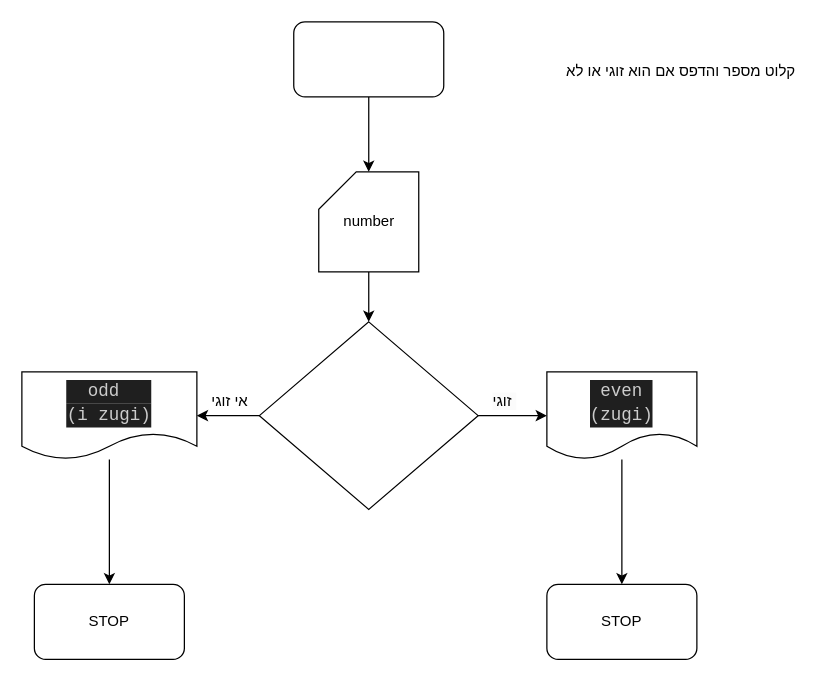
The diagram is 838 pixels wide and 681 high, and some of its shapes have lost their labels. Each missing label, with the centre of its shape:
( number % 2 === 0): point (368, 415)
START: point (368, 59)
